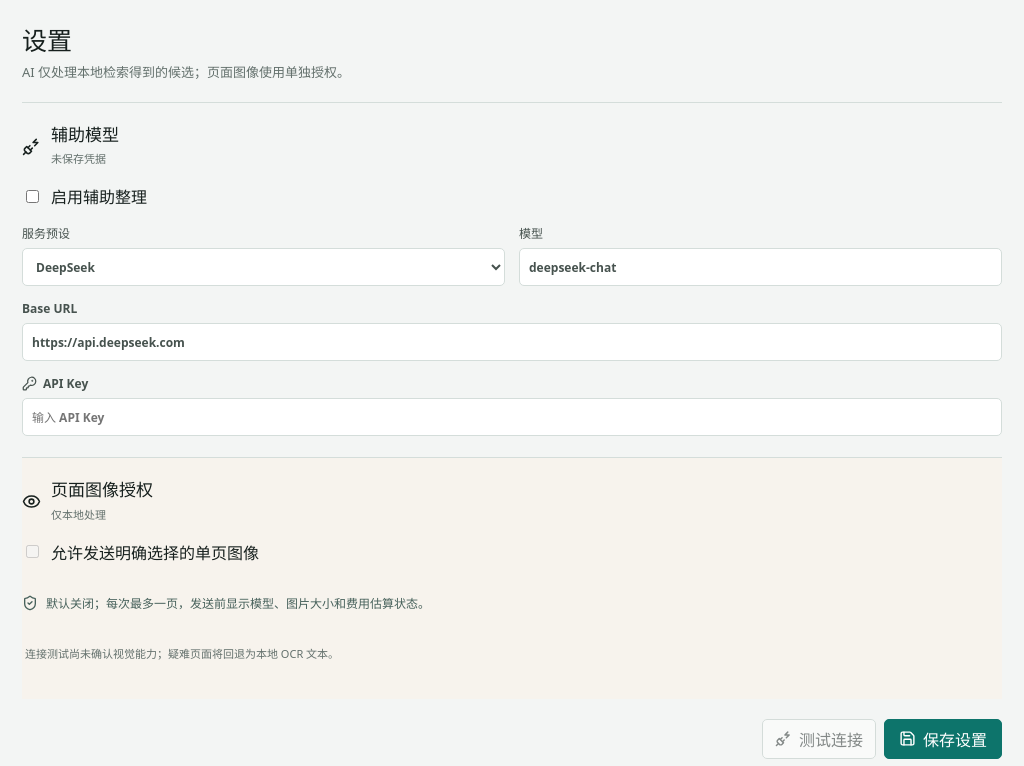
authoritative settings › explains that enabling AI requires an API key
This screenshot has width=1024, height=766.
Click the checkbox labelled "启用辅助整理".
click(32, 196)  # box [26,190,39,203]
(page scrolled)
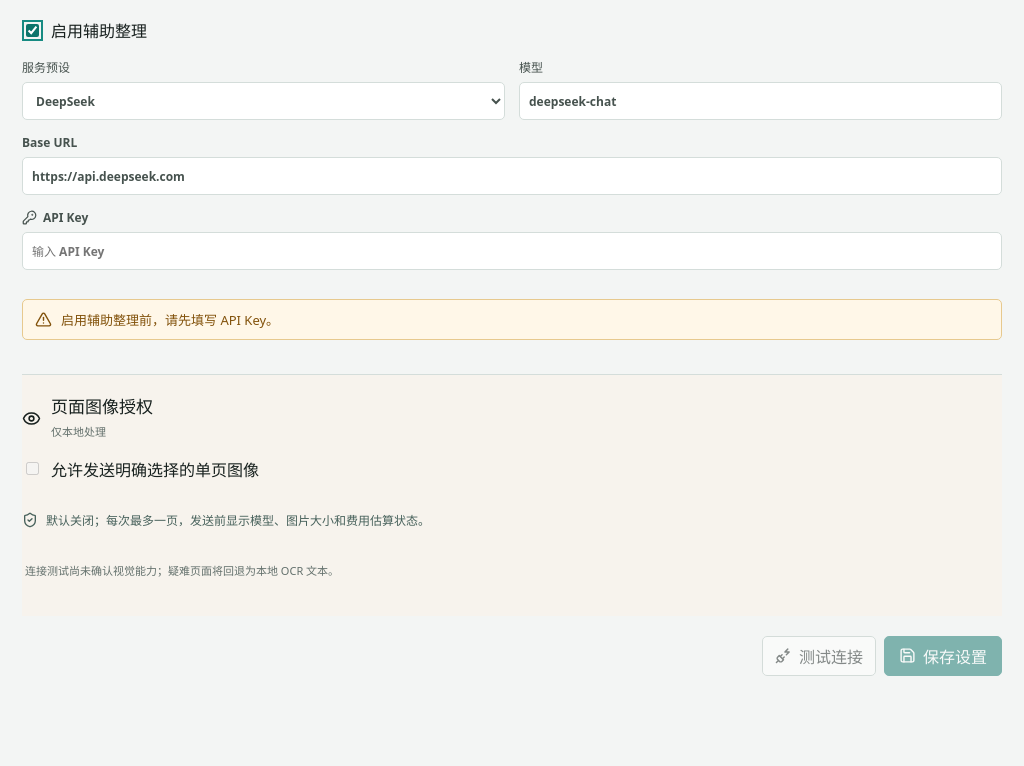
Now the text "启用辅助整理前，请先填写 API Key。" is shown, box [22,300,1002,340]
Now the button "保存设置" is disabled, box [884,636,1002,676]
